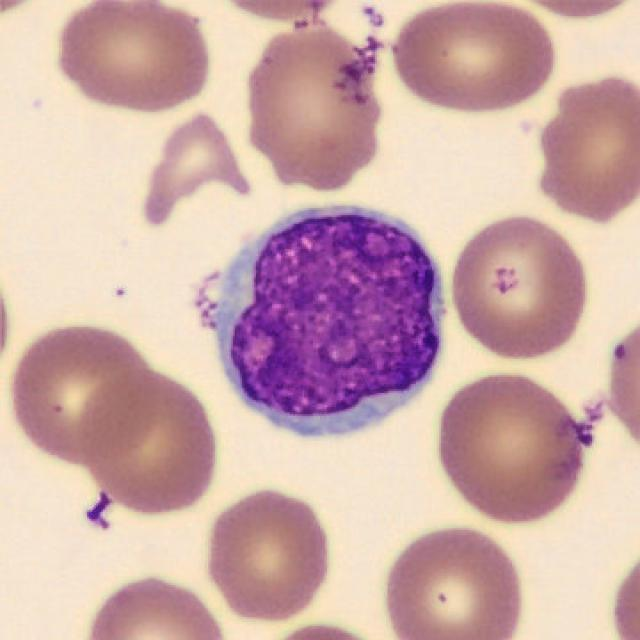Linfocito: (212, 210, 441, 437)
